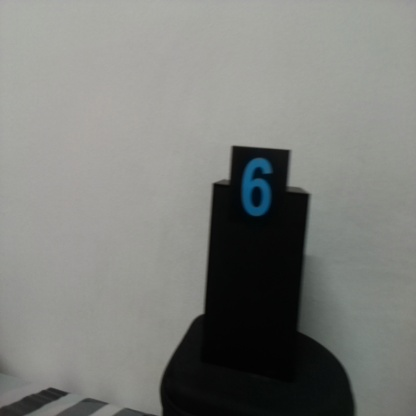id_6: (233, 146, 289, 241)
